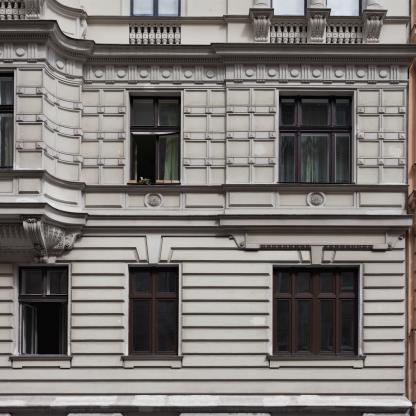Building Outline: (0, 0, 416, 416)
Cornice: (224, 226, 409, 264)
Facade: (0, 0, 404, 415)
Floor: (1, 226, 405, 416), (1, 53, 405, 218), (0, 0, 404, 45)
Floor Slab: (1, 218, 405, 226), (1, 45, 405, 53)
Molding: (0, 19, 416, 83), (249, 8, 388, 43), (0, 214, 84, 263), (129, 23, 181, 44), (0, 0, 43, 19)
Sill: (266, 356, 367, 367), (9, 356, 73, 369), (121, 356, 184, 368)
Window: (273, 268, 359, 355), (279, 97, 351, 184), (130, 97, 181, 184), (18, 268, 68, 355), (129, 268, 178, 355), (0, 73, 14, 168), (131, 0, 180, 16), (271, 0, 307, 16), (327, 0, 362, 16)
